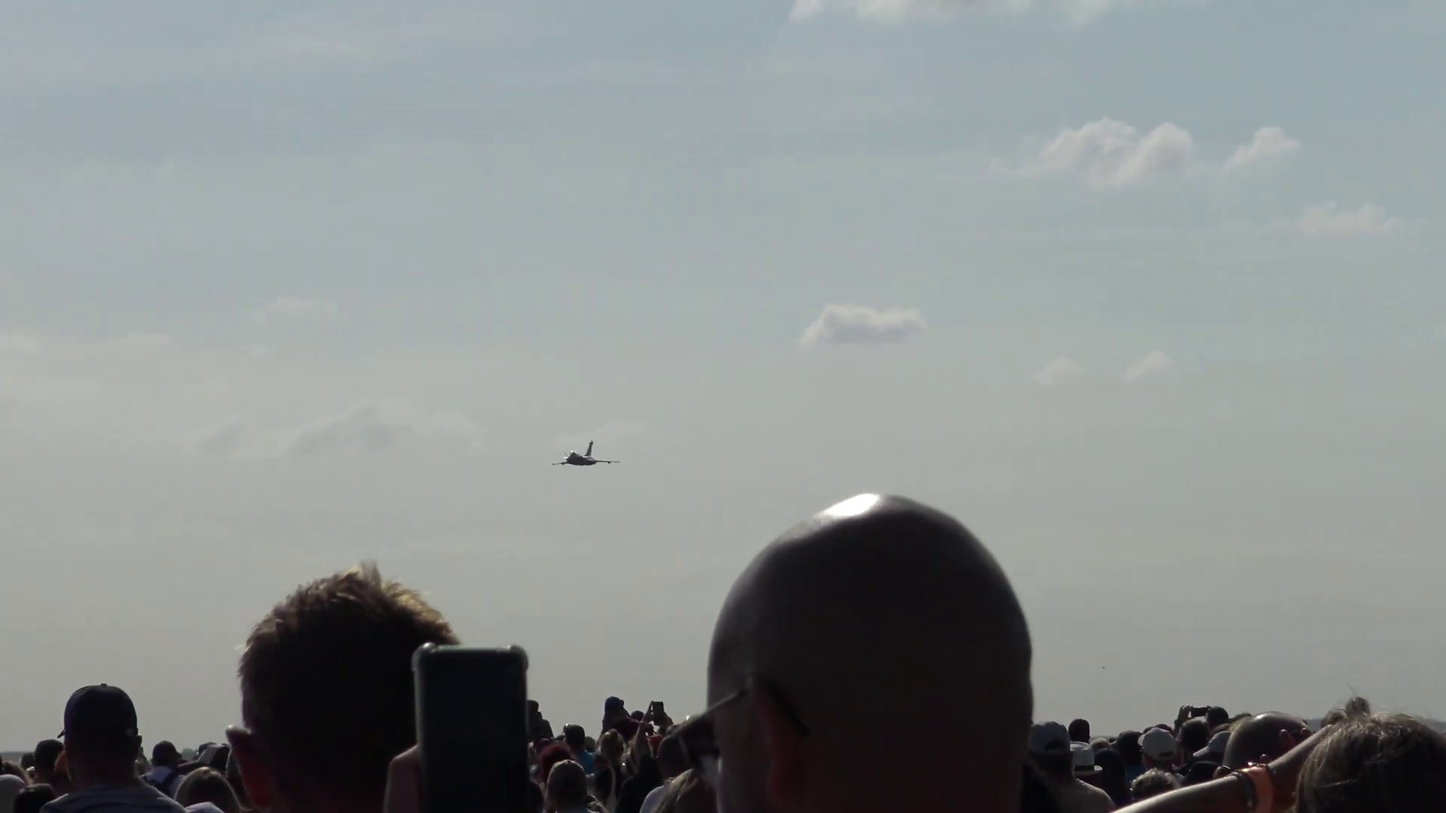Rafale: (553, 441, 623, 468)
